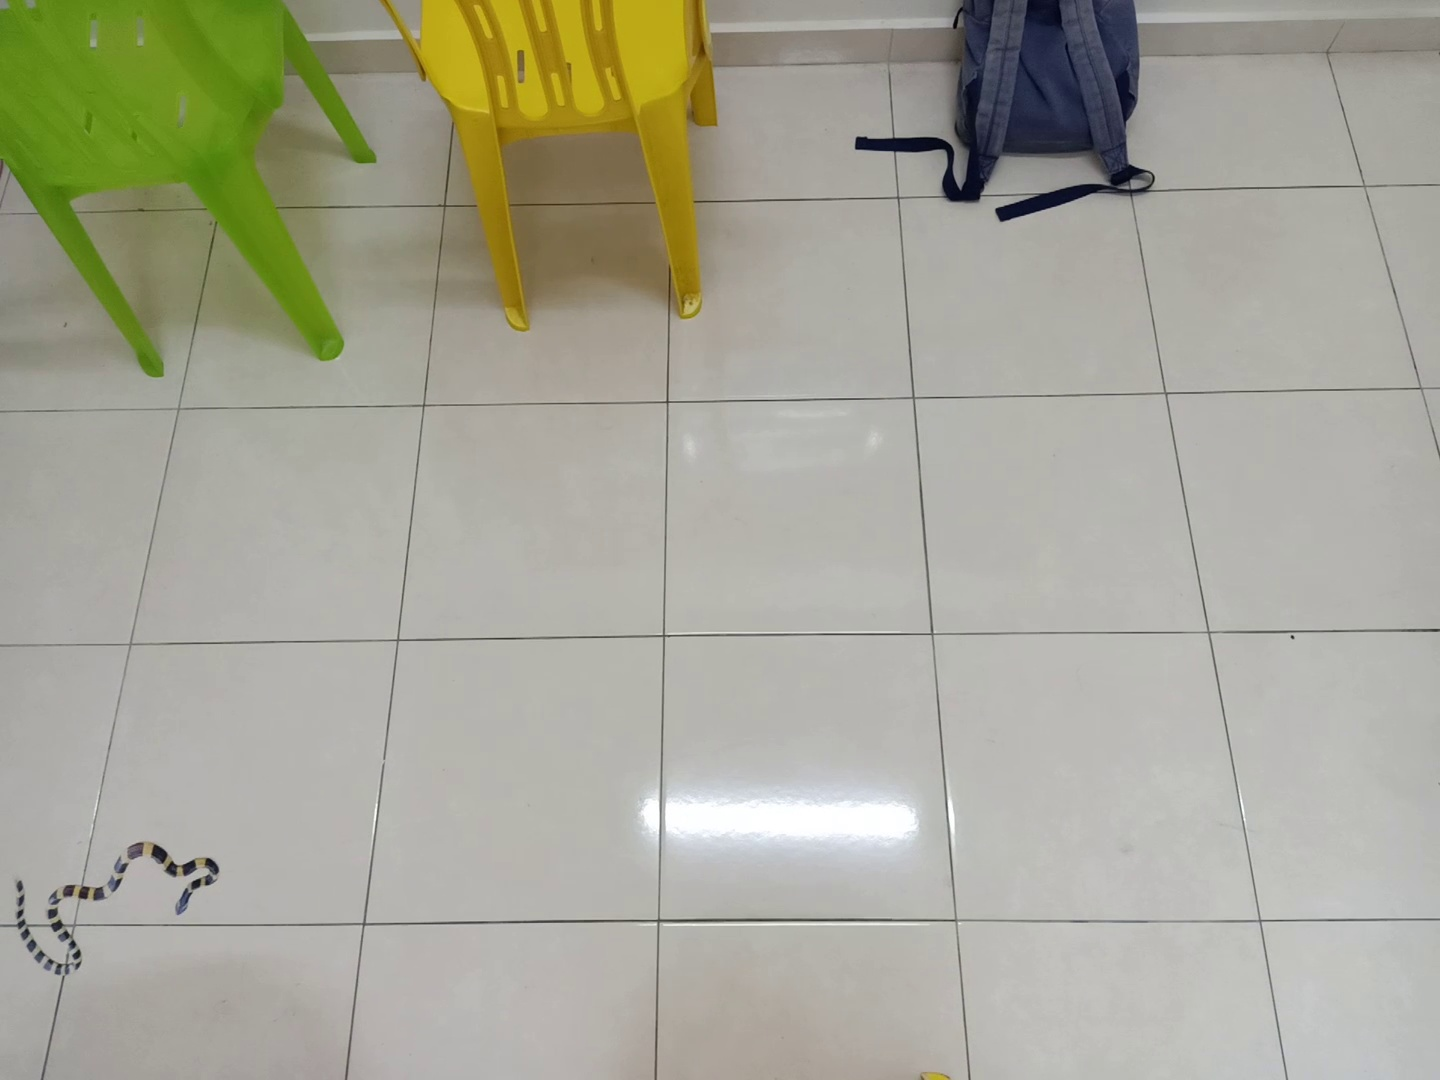snake: (9, 829, 225, 992)
